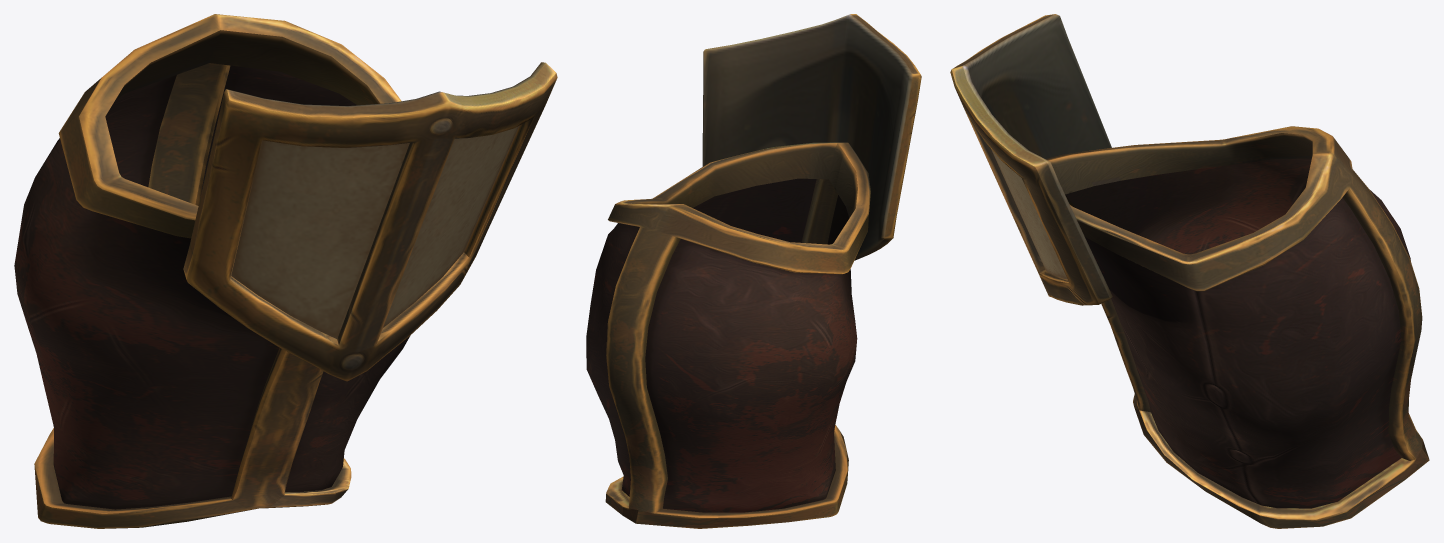
File: sm_armor_dwarf_dhodin_boot_up.gltf
3 views of the same model, side by side, from view 1: azimuth 30°, elevation 25°; view 2: azimuth 150°, elevation 25°; view 3: azimuth 270°, elevation 25° (orthographic). The views are drawn at different scales.
Parts seen in each view (by area): view 1: sm_armor_dwarf_dhodin_boot_up; view 2: sm_armor_dwarf_dhodin_boot_up; view 3: sm_armor_dwarf_dhodin_boot_up.
Boxes of the visible parts, x1,y1,x2,y2 form: sm_armor_dwarf_dhodin_boot_up: (14,14,557,528); sm_armor_dwarf_dhodin_boot_up: (586,14,921,528); sm_armor_dwarf_dhodin_boot_up: (950,14,1429,528).
Size of the model in its own units: 0.2687 by 0.3861 by 0.3983.
Materials: 1 (1 with a texture image).
